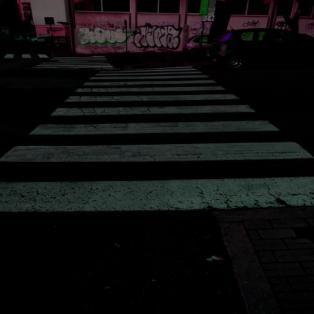Paso de Cebra: (23, 106, 288, 140), (73, 78, 230, 94)
